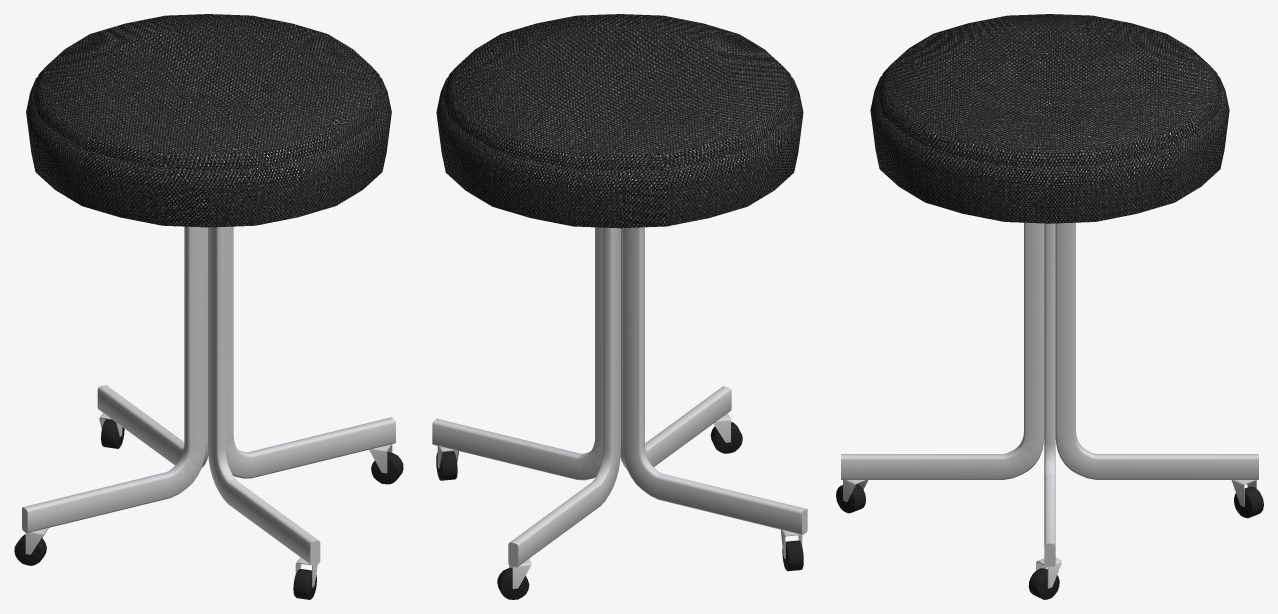
Rendered from SM_检查室_凳子_01.fbx.
The picture shows the model from 3 angles, left to right: view 1: azimuth 30°, elevation 25°; view 2: azimuth 150°, elevation 25°; view 3: azimuth 270°, elevation 25°; orthographic projection. The views are drawn at different scales.
Visible parts, largest first — view 1: SM_检查室_凳子_01; view 2: SM_检查室_凳子_01; view 3: SM_检查室_凳子_01.
Boxes of the visible parts, x1=… form: SM_检查室_凳子_01: x1=14, y1=14, x2=403, y2=599; SM_检查室_凳子_01: x1=432, y1=14, x2=807, y2=599; SM_检查室_凳子_01: x1=836, y1=14, x2=1263, y2=599.
Size of the model in its own units: 422 by 481 by 422.
